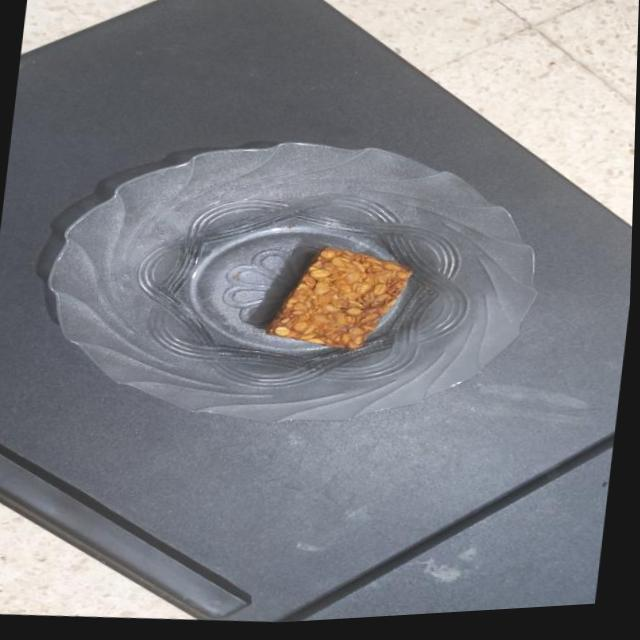tempe_goreng: (266, 247, 412, 349)
